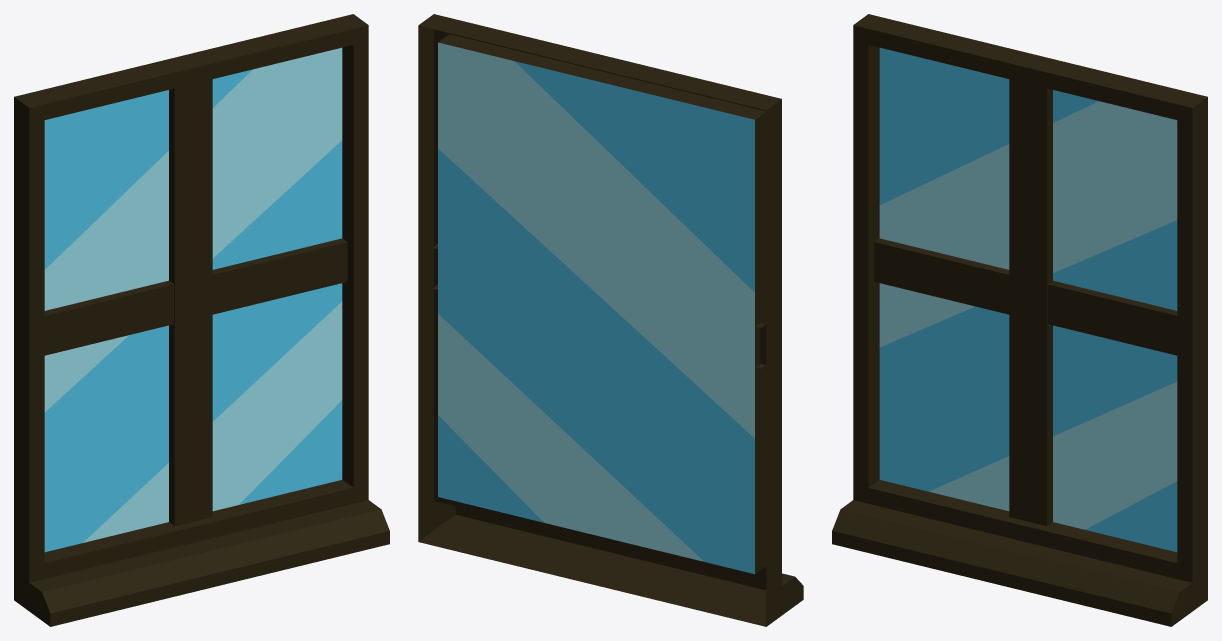
Rendered from Prop_BuildingWindow_04.fbx.
3 views of the same model, side by side, from view 1: azimuth 30°, elevation 25°; view 2: azimuth 150°, elevation 25°; view 3: azimuth 330°, elevation 25° (orthographic). The views are drawn at different scales.
Parts seen in each view (by area): view 1: Prop_BuildingWindow_04; view 2: Prop_BuildingWindow_04; view 3: Prop_BuildingWindow_04.
Boxes of the visible parts, left/top/right/bottom form: Prop_BuildingWindow_04: left=14, top=14, right=389, bottom=626; Prop_BuildingWindow_04: left=418, top=14, right=803, bottom=626; Prop_BuildingWindow_04: left=832, top=14, right=1207, bottom=626.
Bounding box in the file's own units: 109 × 154 × 20.21.
